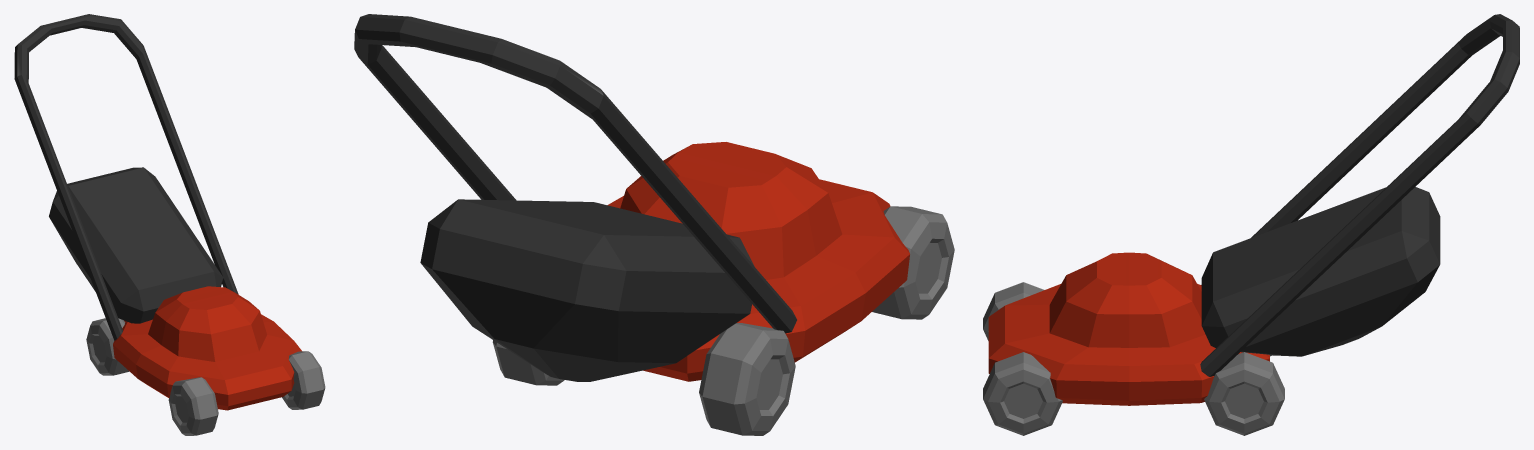
The model's file is Lawnmower.fbx.
3 renders of one model, left to right at view 1: azimuth 30°, elevation 25°; view 2: azimuth 150°, elevation 25°; view 3: azimuth 270°, elevation 25°, orthographic. The views are drawn at different scales.
Visible parts, largest first — view 1: Loawnmower; view 2: Loawnmower; view 3: Loawnmower.
Boxes of the visible parts, x1,y1,x2,y2 form: Loawnmower: (14,14,325,435); Loawnmower: (354,14,954,435); Loawnmower: (983,14,1519,435).
Bounding box in the file's own units: 0.4264 × 0.7604 × 1.03.
Materials: 1 (1 with a texture image).
